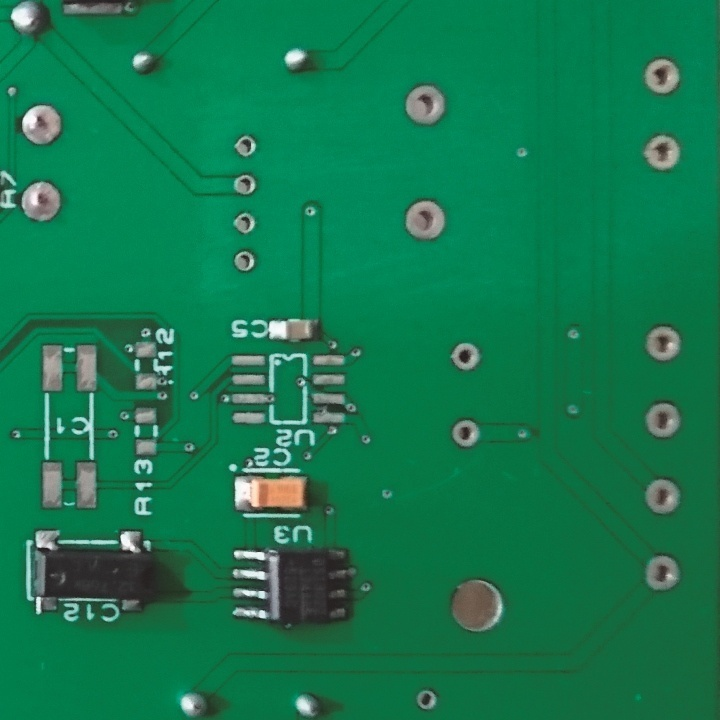F: (17, 103, 70, 149), (17, 178, 67, 225), (402, 83, 449, 128), (404, 198, 448, 243), (641, 132, 684, 175), (641, 475, 684, 518), (640, 55, 682, 98), (642, 321, 684, 363), (644, 399, 686, 441), (641, 553, 684, 593), (448, 418, 484, 449), (450, 341, 482, 375), (413, 686, 441, 713), (233, 133, 260, 160), (231, 173, 260, 197), (233, 249, 259, 275), (231, 209, 256, 236)
